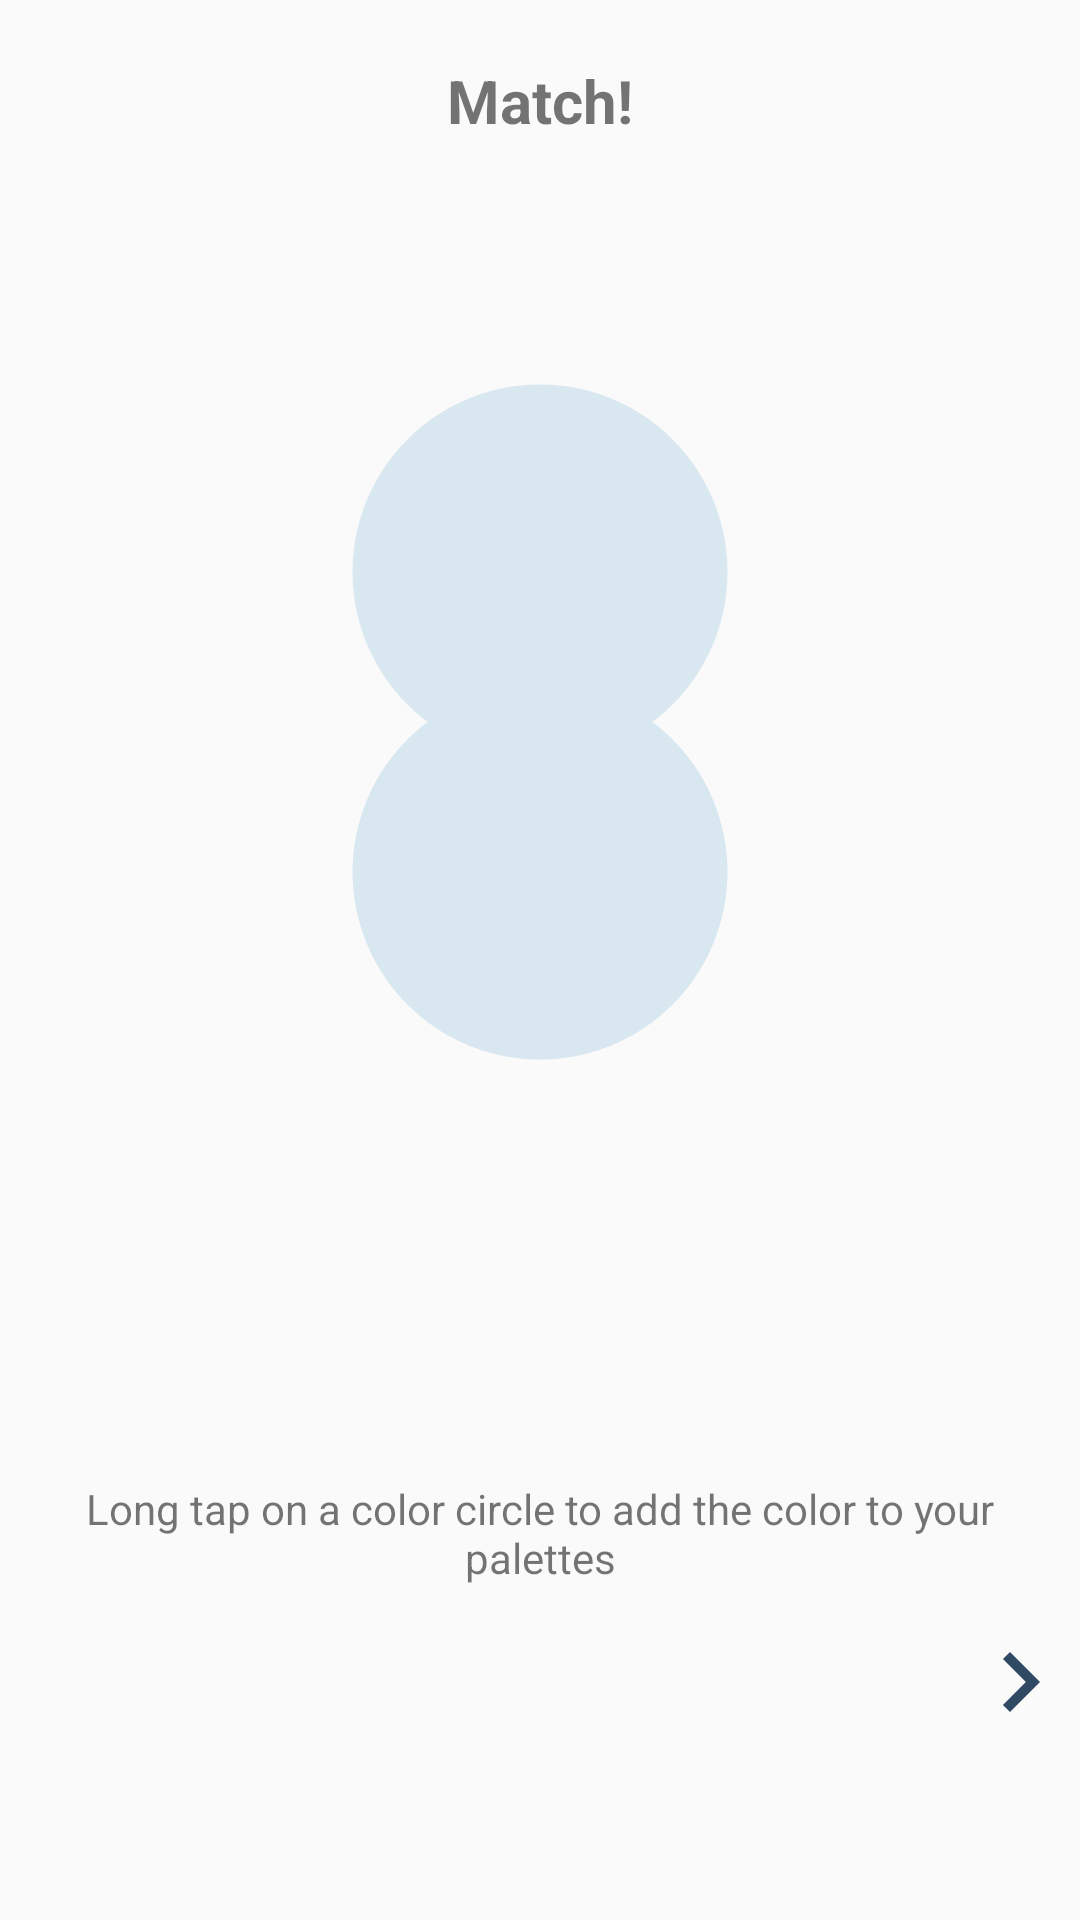

Icons on this 1080x1920 Android screen, each with its box as bbox=(x1, y1, x2, y2):
navigate next: bbox=(1003, 1652, 1040, 1712)
